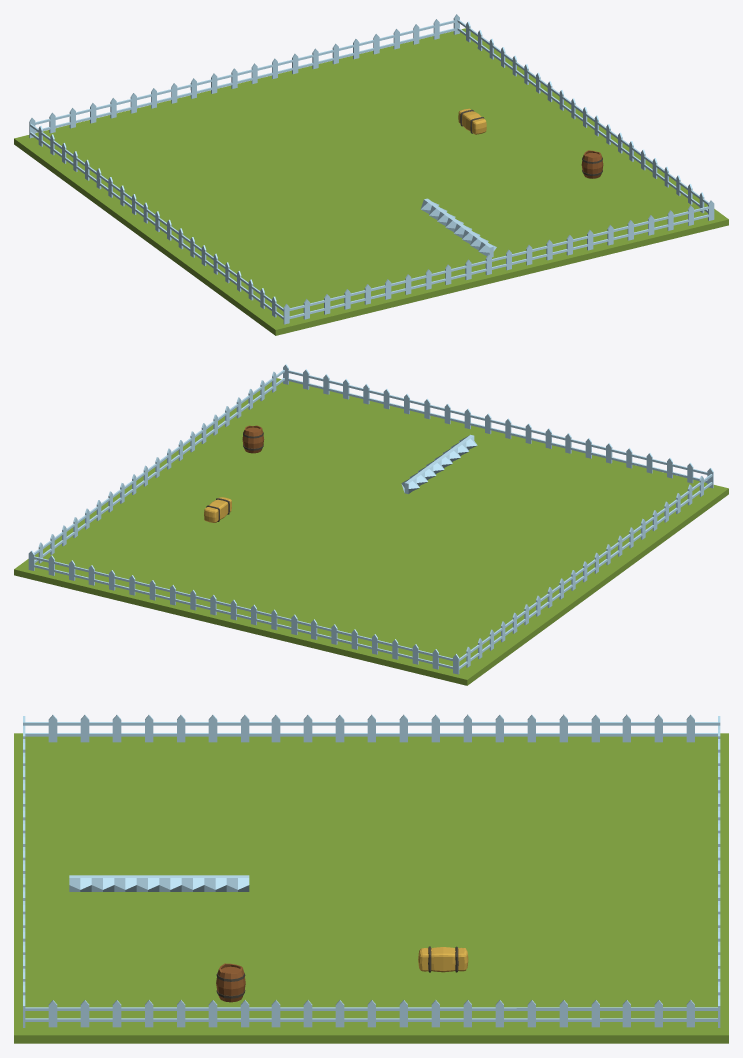
File: Obstacle course 1.fbx
The picture shows the model from 3 angles, top to bottom: view 1: azimuth 30°, elevation 25°; view 2: azimuth 150°, elevation 25°; view 3: azimuth 270°, elevation 25°; orthographic projection. The views are drawn at different scales.
Visible parts, largest first — view 1: Ground, Fence, Spike Spinner, Hay bale, Barrel; view 2: Ground, Fence, Spike Spinner, Hay bale, Barrel; view 3: Ground, Fence, Spike Spinner, Hay bale, Barrel.
Boxes of the visible parts, x1=… form: Ground: x1=14, y1=28, x2=728, y2=335; Fence: x1=29, y1=14, x2=714, y2=324; Spike Spinner: x1=420, y1=198, x2=496, y2=257; Hay bale: x1=458, y1=108, x2=486, y2=134; Barrel: x1=581, y1=150, x2=603, y2=178; Ground: x1=14, y1=378, x2=728, y2=685; Fence: x1=28, y1=364, x2=713, y2=674; Spike Spinner: x1=401, y1=434, x2=477, y2=494; Hay bale: x1=204, y1=497, x2=231, y2=522; Barrel: x1=242, y1=425, x2=264, y2=453; Ground: x1=14, y1=733, x2=728, y2=1043; Fence: x1=23, y1=714, x2=720, y2=1027; Spike Spinner: x1=69, y1=875, x2=249, y2=891; Hay bale: x1=418, y1=946, x2=468, y2=972; Barrel: x1=216, y1=963, x2=245, y2=1002.
Bounding box in the file's own units: 3303 × 193 × 3303.
